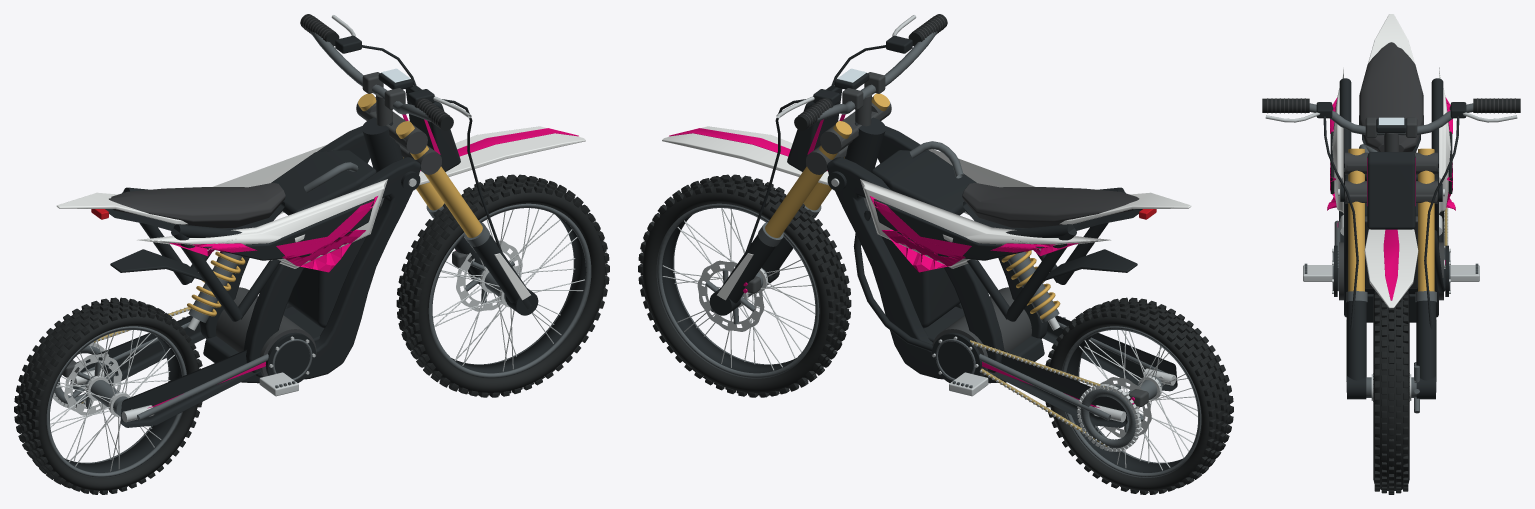
The model's file is sur-ron-hyper-bee.glb.
3 renders of one model, left to right at view 1: azimuth 30°, elevation 25°; view 2: azimuth 150°, elevation 25°; view 3: azimuth 270°, elevation 25°, orthographic. The views are drawn at different scales.
Parts seen in each view (by area): view 1: FrontWheel | Offroad tyre rubber, Chassis | Satin black polymer, RearWheel | Offroad tyre rubber, RearSuspension | Satin black polymer, Bodywork | Printed white graphics, BatteryMount | Satin black polymer, Bodywork | Grained charcoal saddle, Bodywork | Satin black polymer, Bodywork | Model accent, FrontWheel | Machined satin aluminium, RearWheel | Machined satin aluminium, FrontWheel | Anodized gunmetal (+15 smaller); view 2: FrontWheel | Offroad tyre rubber, Chassis | Satin black polymer, RearWheel | Offroad tyre rubber, RearSuspension | Satin black polymer, Bodywork | Printed white graphics, BatteryMount | Satin black polymer, Bodywork | Grained charcoal saddle, Bodywork | Satin black polymer, Bodywork | Model accent, MotorMount | Satin black polymer, FrontWheel | Machined satin aluminium, FrontWheel | Anodized gunmetal (+19 smaller); view 3: FrontWheel | Offroad tyre rubber, Bodywork | Printed white graphics, Bodywork | Grained charcoal saddle, Bodywork | Satin black polymer, Fork | Satin black polymer, Fork | Gold fork anodizing, Cockpit | Satin black polymer, Fork | Cast graphite aluminium, RearSuspension | Satin black polymer, Bodywork | Model accent, MotorMount | Satin black polymer, Cockpit | Offroad tyre rubber (+10 smaller).
Part boxes in pixels (x1,y1,x2,y2): FrontWheel | Offroad tyre rubber: [396, 174, 609, 397]; Chassis | Satin black polymer: [200, 117, 420, 379]; RearWheel | Offroad tyre rubber: [14, 297, 202, 494]; RearSuspension | Satin black polymer: [70, 187, 280, 427]; Bodywork | Printed white graphics: [56, 126, 585, 268]; BatteryMount | Satin black polymer: [271, 150, 376, 328]; Bodywork | Grained charcoal saddle: [109, 182, 285, 228]; Bodywork | Satin black polymer: [105, 85, 460, 280]; Bodywork | Model accent: [169, 114, 578, 272]; FrontWheel | Machined satin aluminium: [433, 208, 584, 371]; RearWheel | Machined satin aluminium: [50, 330, 174, 471]; FrontWheel | Anodized gunmetal: [428, 203, 591, 378]; FrontWheel | Offroad tyre rubber: [638, 174, 851, 397]; Chassis | Satin black polymer: [827, 117, 1047, 379]; RearWheel | Offroad tyre rubber: [1045, 297, 1233, 494]; RearSuspension | Satin black polymer: [967, 187, 1177, 427]; Bodywork | Printed white graphics: [662, 126, 1191, 268]; BatteryMount | Satin black polymer: [871, 150, 976, 328]; Bodywork | Grained charcoal saddle: [962, 182, 1139, 228]; Bodywork | Satin black polymer: [787, 85, 1142, 282]; Bodywork | Model accent: [669, 114, 1078, 272]; MotorMount | Satin black polymer: [853, 210, 1044, 383]; FrontWheel | Machined satin aluminium: [662, 208, 815, 370]; FrontWheel | Anodized gunmetal: [656, 203, 819, 378]; FrontWheel | Offroad tyre rubber: [1373, 290, 1409, 494]; Bodywork | Printed white graphics: [1330, 14, 1452, 308]; Bodywork | Grained charcoal saddle: [1359, 42, 1423, 151]; Bodywork | Satin black polymer: [1330, 106, 1452, 229]; Fork | Satin black polymer: [1346, 300, 1436, 399]; Fork | Gold fork anodizing: [1348, 148, 1434, 291]; Cockpit | Satin black polymer: [1316, 102, 1466, 329]; Fork | Cast graphite aluminium: [1345, 152, 1437, 203]; RearSuspension | Satin black polymer: [1339, 78, 1443, 242]; Bodywork | Model accent: [1327, 97, 1455, 300]; MotorMount | Satin black polymer: [1334, 230, 1448, 322]; Cockpit | Offroad tyre rubber: [1262, 98, 1520, 112].
Bounding box in the file's own units: 1.48 × 0.8673 × 0.616.
